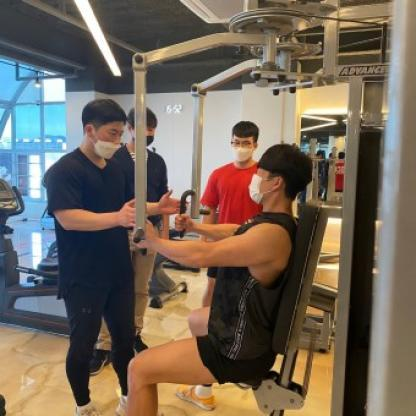chest fly machine: (106, 0, 416, 416)
